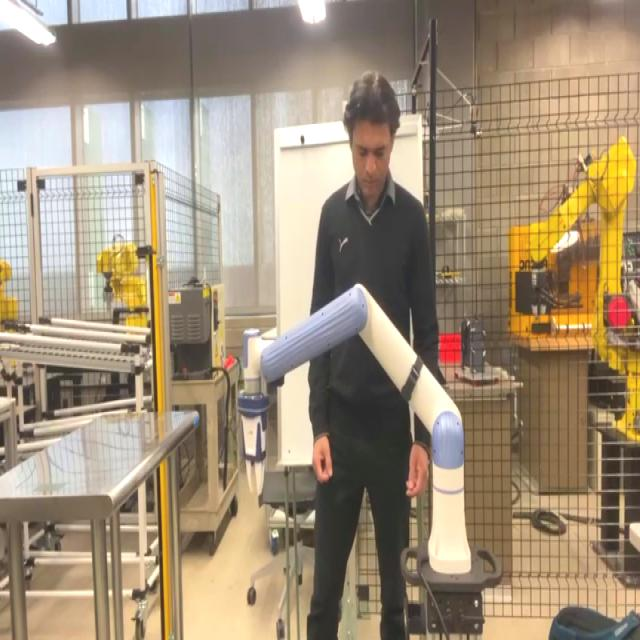robot: (240, 280, 502, 637)
